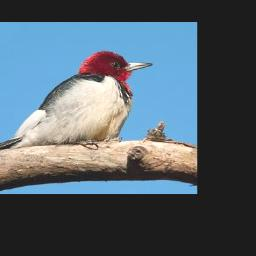Woodpecker: (0, 50, 153, 153)
